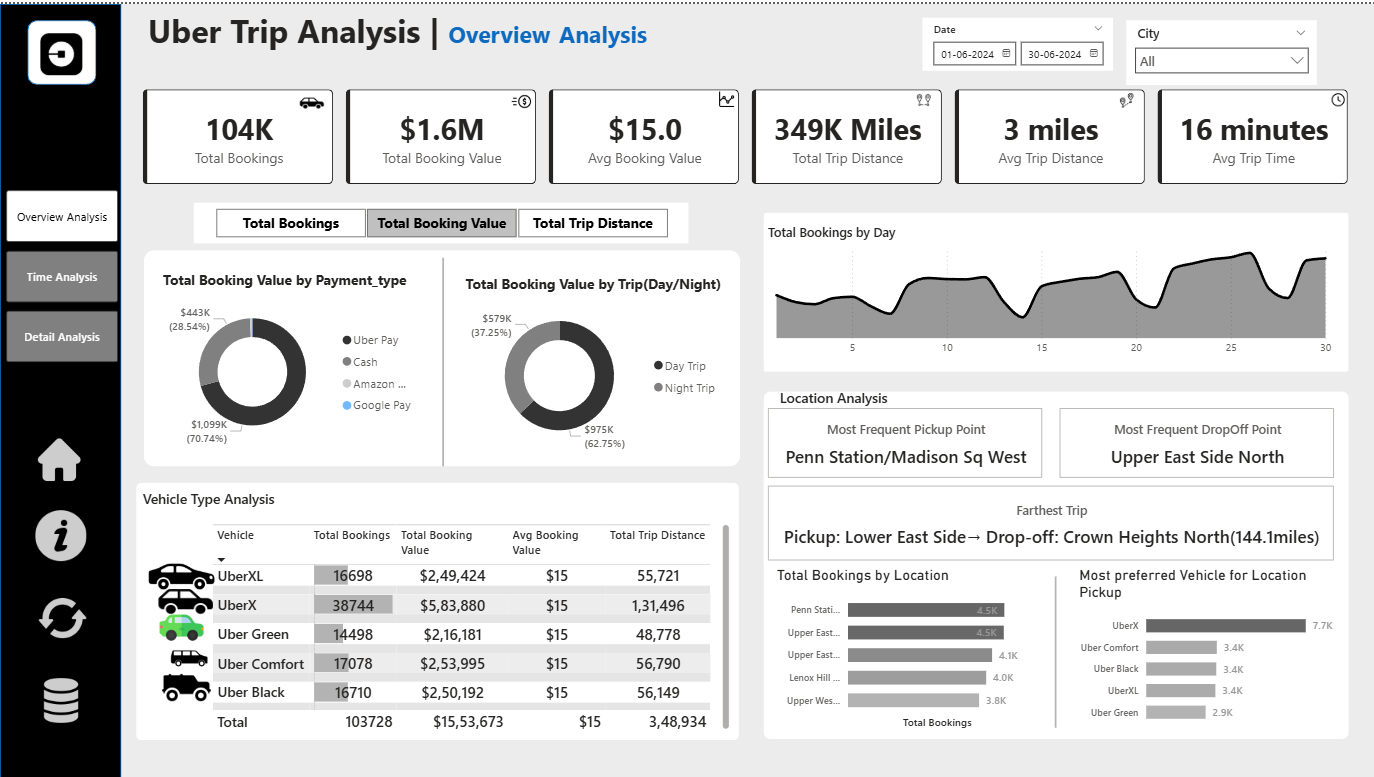

This screenshot's page, from the dashboard's own definition file:
{"tool":"powerbi","page":{"name":"Overview Analysis","canvas":[1600,900],"ordinal":0},"visuals":[{"type":"shape","box":[31.7,18.3,80,75],"z":0,"group":"g1"},{"type":"shape","box":[167.2,286.3,693.3,251.5],"z":0},{"type":"shape","box":[0,0,141,900.1],"z":1000},{"type":"image","box":[41.7,26.6,58.3,61.7],"z":1000,"group":"g1"},{"type":"textbox","box":[167.6,0,619.1,94.1],"z":2000},{"type":"cardVisual","fields":{"Data":["Trip Details.Total Bookings","Trip Details.Total Booking Amount","Trip Details.Avg Booking Amount","Trip Details.Total Trip Distance","Trip Details.Avg Trip Distance","Trip Details.Avg Trip Time"]},"box":[161.7,94.2,1415,120],"z":3000},{"type":"image","box":[588,97.3,34.7,32],"z":4000},{"type":"image","box":[1544,97.3,25.3,28.7],"z":5000},{"type":"image","box":[1294.4,98.1,30.6,26.2],"z":6000},{"type":"image","box":[1058.8,98.1,31.2,25.6],"z":7000},{"type":"image","box":[827.6,96.5,35.3,29.4],"z":8000},{"type":"image","box":[338.4,96.3,47.9,38.9],"z":9000},{"type":"slicer","fields":{"Values":["Dynamic  Measure.Dynamic  Measure"]},"box":[225,230.9,575,47.1],"z":10000},{"type":"donutChart","fields":{"Y":["Trip Details.Total Booking Value"],"Category":["Trip Details.Payment_type"]},"box":[184.6,309.6,308.1,215.1],"z":11000},{"type":"donutChart","fields":{"Series":["Trip Details.Trip Type(Day/Night)"],"Y":["Trip Details.Total Booking Value"]},"box":[536.3,314,309.6,215.1],"z":12000},{"type":"shape","box":[158.4,556.7,700.6,299.4],"z":13000},{"type":"pivotTable","fields":{"Rows":["Trip Details.Vehicle"],"Values":["Trip Details.Total Bookings","Trip Details.Total Booking Value","Trip Details.Avg Booking Value","Trip Details.Total Trip Distance Measure"]},"box":[242.7,600.3,610.5,250],"z":14000},{"type":"image","box":[158.4,617.7,106.1,95.9],"z":15000},{"type":"image","box":[151.2,657,129.4,75.6],"z":16000},{"type":"image","box":[167.2,694.8,87.2,61],"z":17000},{"type":"image","box":[164.2,732.6,110.5,56.7],"z":18000},{"type":"image","box":[170.1,761.6,93,66.9],"z":19000},{"type":"card","fields":{"Values":["Trip Details.Title for Grid"]},"box":[72.7,545.1,340.1,64],"z":20000},{"type":"shape","box":[888.3,243.3,680,185],"z":21000},{"type":"areaChart","fields":{"Category":["Calender Table.Date.Variation.Date Hierarchy.Day"],"Y":["Trip Details.Total Bookings"]},"box":[888.3,255,668.3,163.3],"z":22000},{"type":"shape","box":[888.1,450.6,680.2,404.1],"z":23000},{"type":"cardVisual","fields":{"Data":["Trip Details.Most Frequent Pickup Point","Trip Details.Most Frequent DropOff Point"]},"box":[888.1,465.1,668.6,91.6],"z":24000},{"type":"cardVisual","fields":{"Data":["Trip Details.Farthest Trip"]},"box":[888.1,555.2,668.6,97.4],"z":25000},{"type":"barChart","fields":{"Category":["Location Table.Location"],"Y":["Trip Details.Total Bookings"]},"box":[898.3,654.1,300.9,193.3],"z":26000},{"type":"barChart","title":"Most preferred Vehicle for Location Pickup","fields":{"Y":["CountNonNull(Trip Details.PULocationID)"],"Category":["Trip Details.Vehicle"]},"box":[1250,654.1,306.7,193.3],"z":27000},{"type":"shape","box":[494.2,295.1,42.2,242.7],"z":28000},{"type":"shape","box":[1206.4,665.7,42.2,175.9],"z":29000},{"type":"card","fields":{"Values":["Trip Details.Title for Location"]},"box":[799.8,427.9,340.3,64.6],"z":30000},{"type":"slicer","fields":{"Values":["Calender Table.Date"]},"box":[1073.3,16.7,221.7,61.7],"z":31000},{"type":"slicer","fields":{"Values":["Location Table.City"]},"box":[1310,18.3,221.7,75],"z":32000},{"type":"pageNavigator","box":[7.2,216.9,130.1,200.6],"z":33000},{"type":"group","id":"g1","title":"Group 1","box":[31.7,18.3,80,75],"z":34000},{"type":"image","box":[39.8,497.1,59.6,65.1],"z":36000},{"type":"image","box":[36.2,582,68.7,74.1],"z":37000},{"type":"image","box":[36.2,681.4,72.3,65.1],"z":38000},{"type":"image","box":[38,779,66.9,61.5],"z":39000}]}

Visuals, with their boxes on the page's 1600x900 design canvas (x1, y1, x2, y2). These are canvas units, not pixel positions in the 1374x777 screenshot, which may show the page scaled, cropped or inside an application window:
shape: rect(32, 18, 112, 93)
shape: rect(167, 286, 860, 538)
shape: rect(0, 0, 141, 900)
image: rect(42, 27, 100, 88)
textbox: rect(168, 0, 787, 94)
cardVisual - Trip Details.Total Bookings x Trip Details.Total Booking Amount: rect(162, 94, 1577, 214)
image: rect(588, 97, 623, 129)
image: rect(1544, 97, 1569, 126)
image: rect(1294, 98, 1325, 124)
image: rect(1059, 98, 1090, 124)
image: rect(828, 96, 863, 126)
image: rect(338, 96, 386, 135)
slicer - Dynamic  Measure.Dynamic  Measure: rect(225, 231, 800, 278)
donutChart - Trip Details.Total Booking Value x Trip Details.Payment_type: rect(185, 310, 493, 525)
donutChart - Trip Details.Trip Type(Day/Night) x Trip Details.Total Booking Value: rect(536, 314, 846, 529)
shape: rect(158, 557, 859, 856)
pivotTable - Trip Details.Vehicle x Trip Details.Total Bookings: rect(243, 600, 853, 850)
image: rect(158, 618, 264, 714)
image: rect(151, 657, 281, 733)
image: rect(167, 695, 254, 756)
image: rect(164, 733, 275, 789)
image: rect(170, 762, 263, 828)
card - Trip Details.Title for Grid: rect(73, 545, 413, 609)
shape: rect(888, 243, 1568, 428)
areaChart - Calender Table.Date.Variation.Date Hierarchy.Day x Trip Details.Total Bookings: rect(888, 255, 1557, 418)
shape: rect(888, 451, 1568, 855)
cardVisual - Trip Details.Most Frequent Pickup Point x Trip Details.Most Frequent DropOff Point: rect(888, 465, 1557, 557)
cardVisual - Trip Details.Farthest Trip: rect(888, 555, 1557, 653)
barChart - Location Table.Location x Trip Details.Total Bookings: rect(898, 654, 1199, 847)
"Most preferred Vehicle for Location Pickup" barChart: rect(1250, 654, 1557, 847)
shape: rect(494, 295, 536, 538)
shape: rect(1206, 666, 1249, 842)
card - Trip Details.Title for Location: rect(800, 428, 1140, 492)
slicer - Calender Table.Date: rect(1073, 17, 1295, 78)
slicer - Location Table.City: rect(1310, 18, 1532, 93)
pageNavigator: rect(7, 217, 137, 418)
"Group 1" group: rect(32, 18, 112, 93)
image: rect(40, 497, 99, 562)
image: rect(36, 582, 105, 656)
image: rect(36, 681, 108, 746)
image: rect(38, 779, 105, 840)
